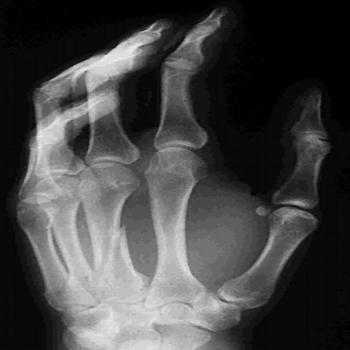Fracture: (90, 223, 134, 277)
